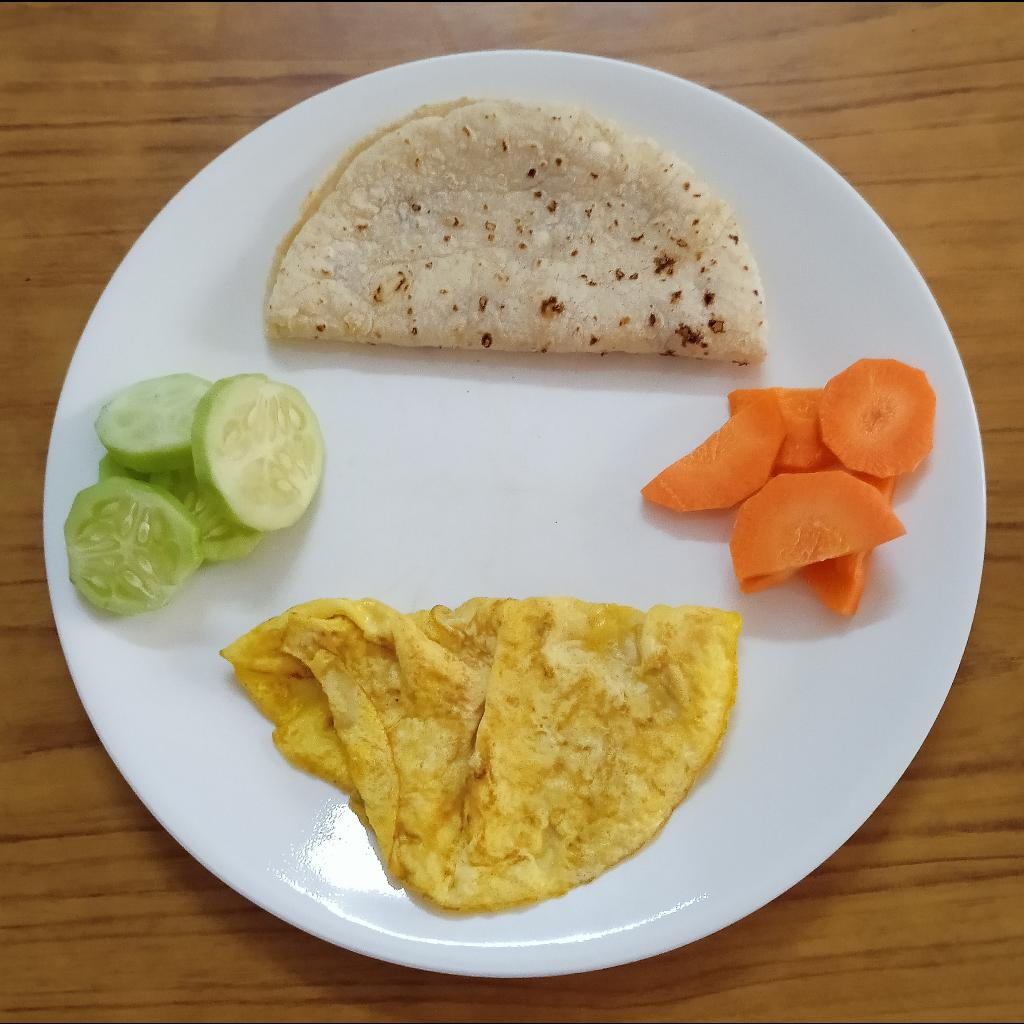carrot: (640, 357, 939, 616)
cucumber: (64, 372, 324, 616)
egg-poached: (221, 596, 745, 910)
ruti: (263, 93, 768, 364)
